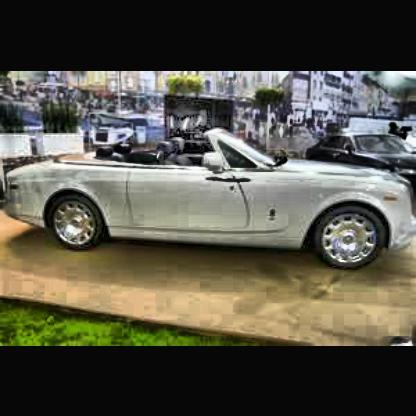Rolls-Royce Phantom Drophead Coupe Convertible 2012: (8, 130, 415, 270)
